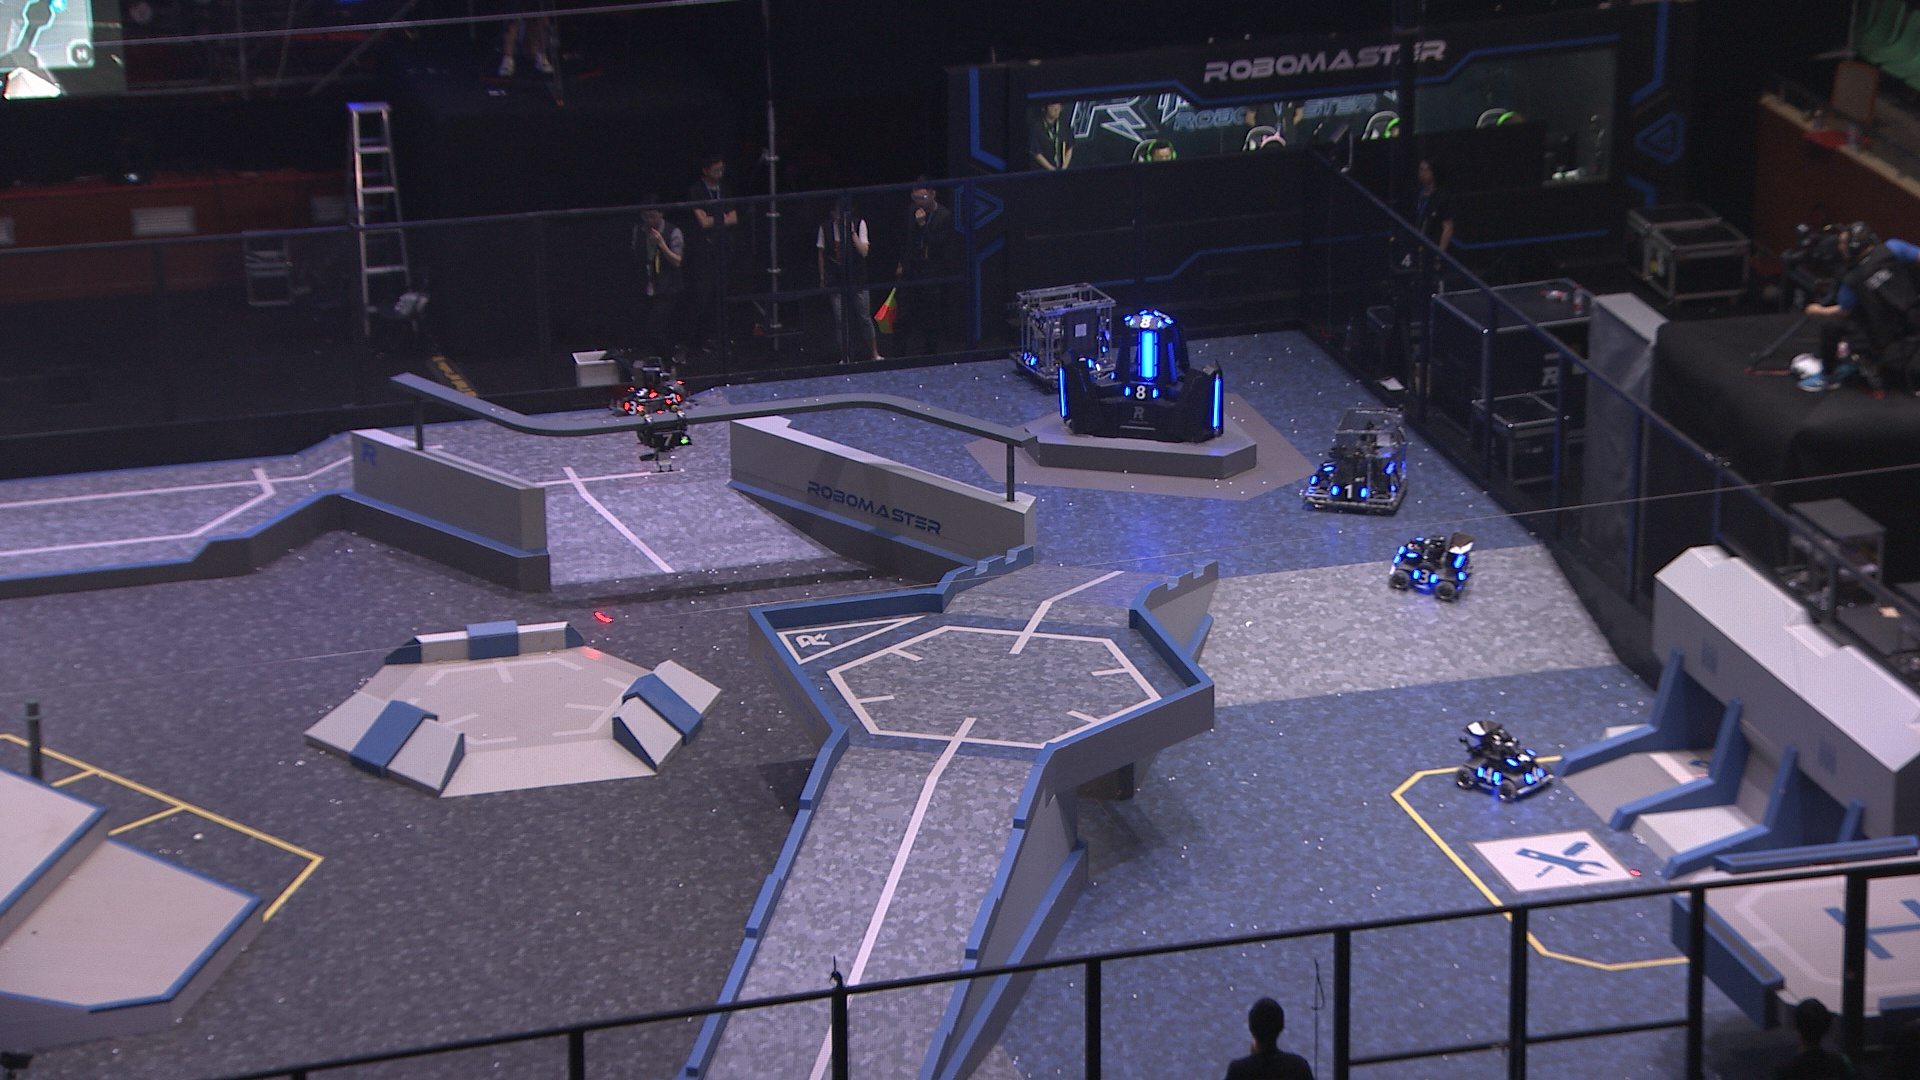armor: (1135, 330, 1162, 381), (1211, 376, 1226, 429), (1054, 367, 1068, 419), (1329, 483, 1367, 502), (1127, 313, 1163, 332), (1125, 384, 1160, 404), (1476, 764, 1503, 789), (647, 431, 684, 450), (626, 381, 661, 400), (1411, 566, 1437, 588), (1506, 749, 1538, 767), (1519, 764, 1544, 785), (1404, 537, 1425, 560), (1386, 469, 1406, 495), (621, 398, 647, 415), (1321, 455, 1342, 473), (1456, 560, 1472, 584), (665, 389, 683, 409), (1021, 348, 1038, 368), (1153, 309, 1174, 324)
base: (1048, 309, 1229, 444)
car: (1305, 404, 1414, 517), (1010, 281, 1126, 386), (1453, 717, 1555, 802), (1389, 527, 1477, 600), (604, 353, 694, 419)
watcher: (633, 389, 698, 473)
